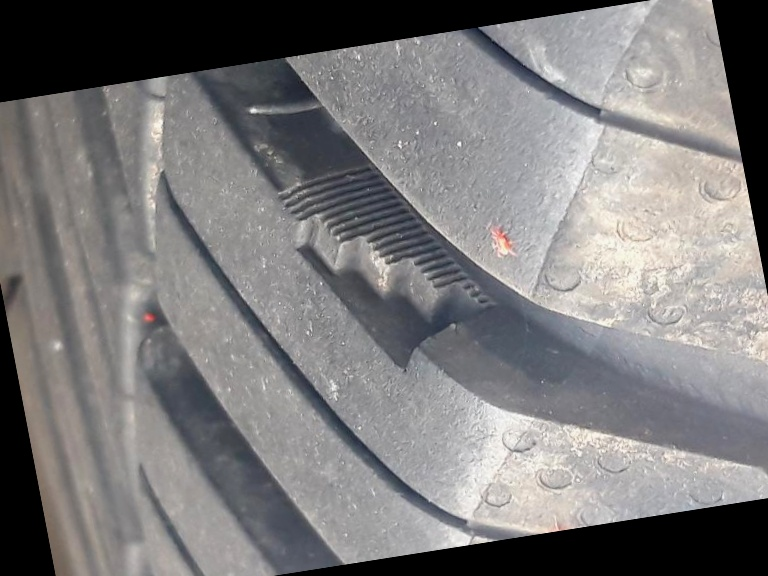temoin:90: (262, 137, 521, 397)
